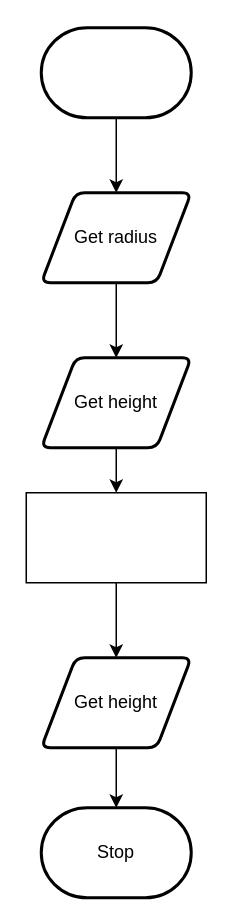
This 233x924 diagram has some shape labels left out. The shapes that lost their labels are listed below. From the top down, each one's box as (x1, y1, x2, y2) in pixels, then its label:
(39, 26, 192, 118): Start
(25, 491, 206, 583): volume = π r 2 h
